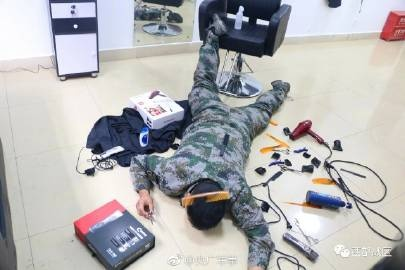falling: (118, 0, 298, 268)
